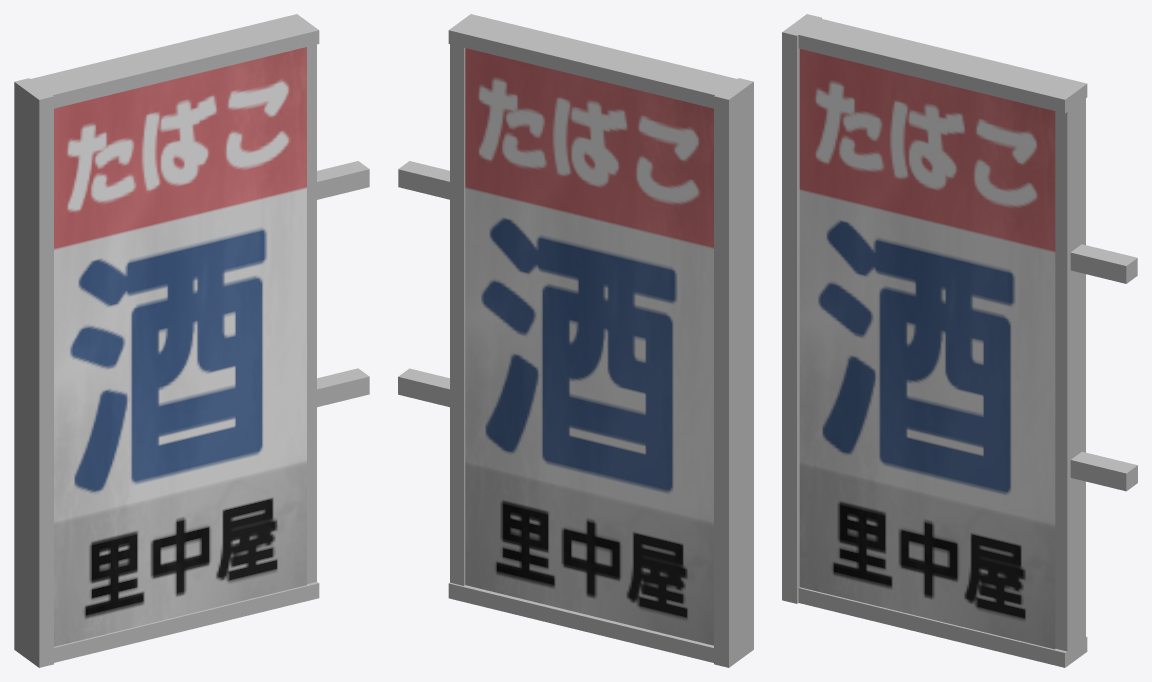
Rendered from signboard_2_14b.fbx.
The picture shows the model from 3 angles, left to right: view 1: azimuth 30°, elevation 25°; view 2: azimuth 150°, elevation 25°; view 3: azimuth 330°, elevation 25°; orthographic projection.
Visible parts, largest first — view 1: signboard_2_14b; view 2: signboard_2_14b; view 3: signboard_2_14b.
Boxes of the visible parts, x1=… form: signboard_2_14b: x1=14, y1=14, x2=369, y2=667; signboard_2_14b: x1=398, y1=14, x2=753, y2=667; signboard_2_14b: x1=782, y1=14, x2=1137, y2=667.
Size of the model in its own units: 0.8444 by 1.36 by 0.108.
